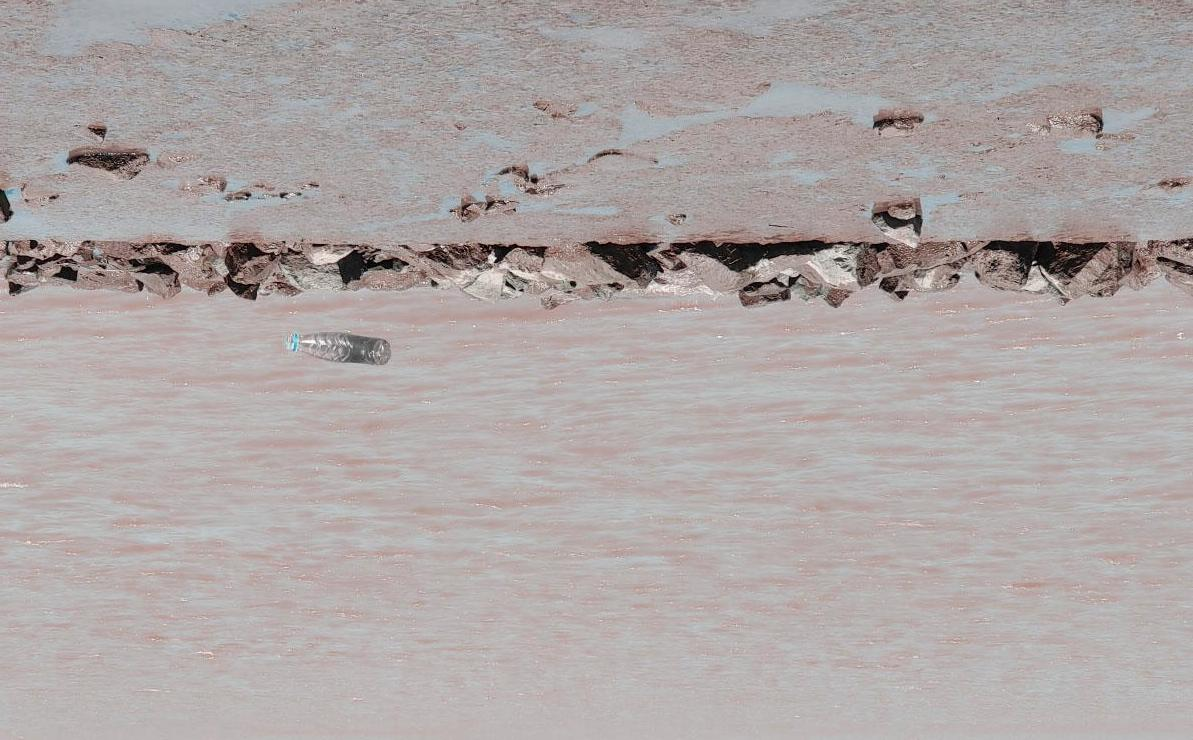Plastic: (282, 327, 391, 370)
